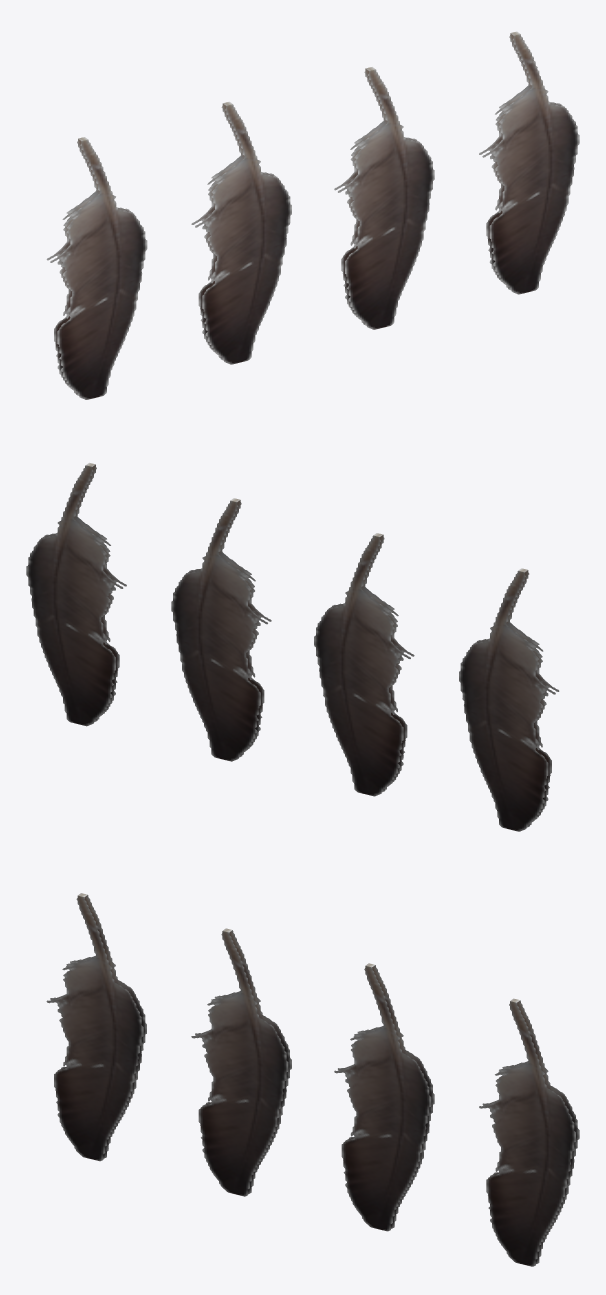
Rendered from shield_mapu_deco.dae.
The picture shows the model from 3 angles, top to bottom: view 1: azimuth 30°, elevation 25°; view 2: azimuth 150°, elevation 25°; view 3: azimuth 330°, elevation 25°; orthographic projection.
Visible parts, largest first — view 1: shield_prop_mapu_01; view 2: shield_prop_mapu_01; view 3: shield_prop_mapu_01.
Boxes of the visible parts, x1,y1,x2,y2 form: shield_prop_mapu_01: (46, 31, 579, 399); shield_prop_mapu_01: (26, 462, 559, 831); shield_prop_mapu_01: (46, 893, 579, 1266).
Bounding box in the file's own units: 0.9466 × 0.011 × 0.4103.
